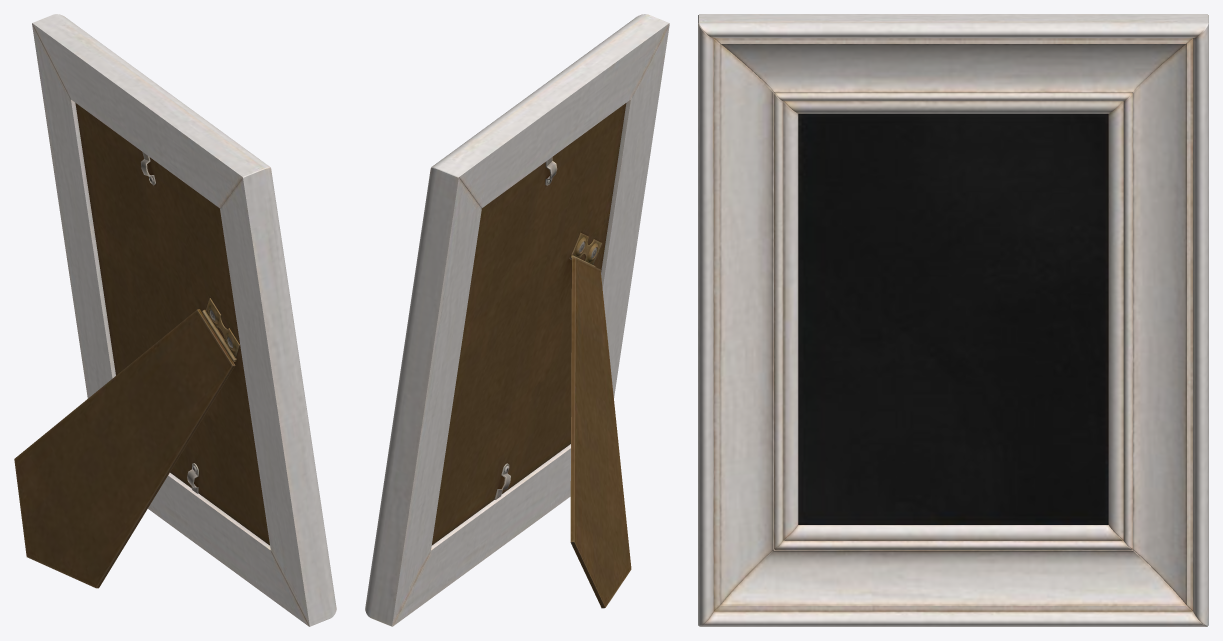
File: standing_picture_frame_02.glb
3 renders of one model, left to right at view 1: azimuth 30°, elevation 25°; view 2: azimuth 150°, elevation 25°; view 3: azimuth 270°, elevation 25°, orthographic. The views are drawn at different scales.
Parts seen in each view (by area): view 1: standing_picture_frame_02; view 2: standing_picture_frame_02; view 3: standing_picture_frame_02, standing_picture_frame_02_glass.
Part boxes in pixels (x1=…): standing_picture_frame_02: x1=14, y1=14, x2=336, y2=626; standing_picture_frame_02: x1=365, y1=14, x2=669, y2=626; standing_picture_frame_02: x1=698, y1=14, x2=1208, y2=626; standing_picture_frame_02_glass: x1=798, y1=113, x2=1108, y2=524.
Size of the model in its own units: 0.1023 by 0.2664 by 0.2169.
Materials: 3 (3 with a texture image).
